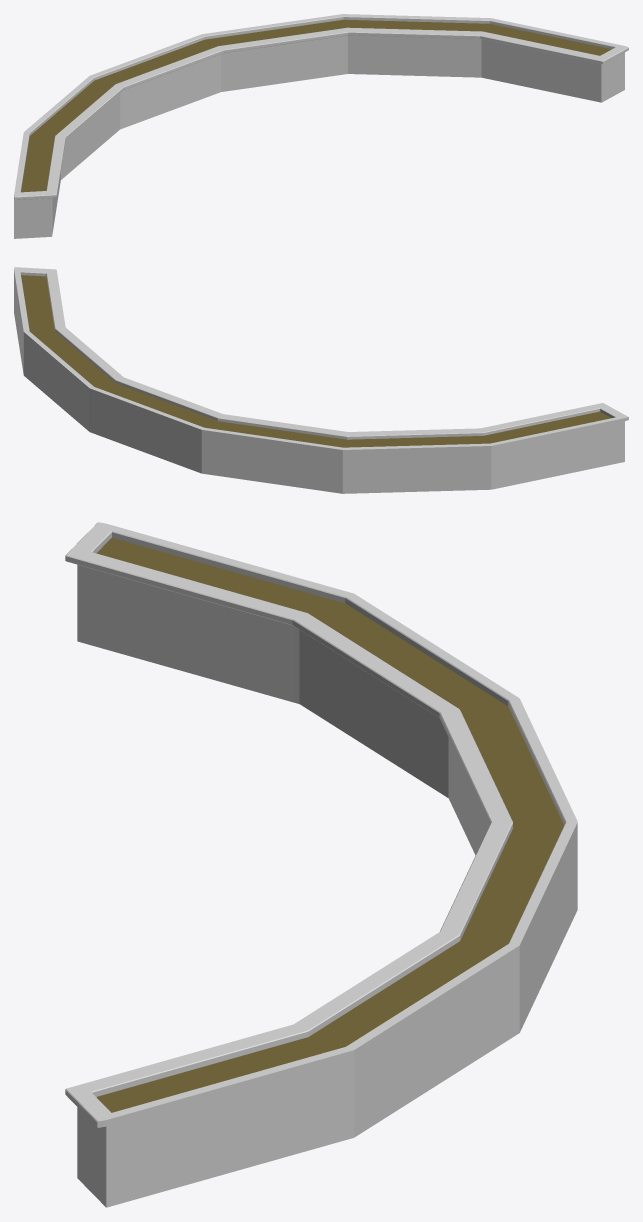
File: LargePot2.fbx
The picture shows the model from 3 angles, top to bottom: view 1: azimuth 30°, elevation 25°; view 2: azimuth 150°, elevation 25°; view 3: azimuth 270°, elevation 25°; orthographic projection. The views are drawn at different scales.
Visible parts, largest first — view 1: polySurface54; view 2: polySurface54; view 3: polySurface54.
Boxes of the visible parts, x1,y1,x2,y2 form: polySurface54: (14, 14, 628, 238); polySurface54: (14, 267, 628, 493); polySurface54: (65, 522, 577, 1207).
Bounding box in the file's own units: 29.34 × 2 × 10.6.
